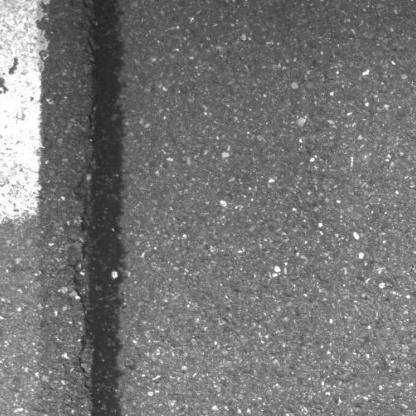Cracks: (70, 151, 100, 237), (69, 238, 94, 323), (74, 333, 97, 397), (84, 99, 101, 143)
